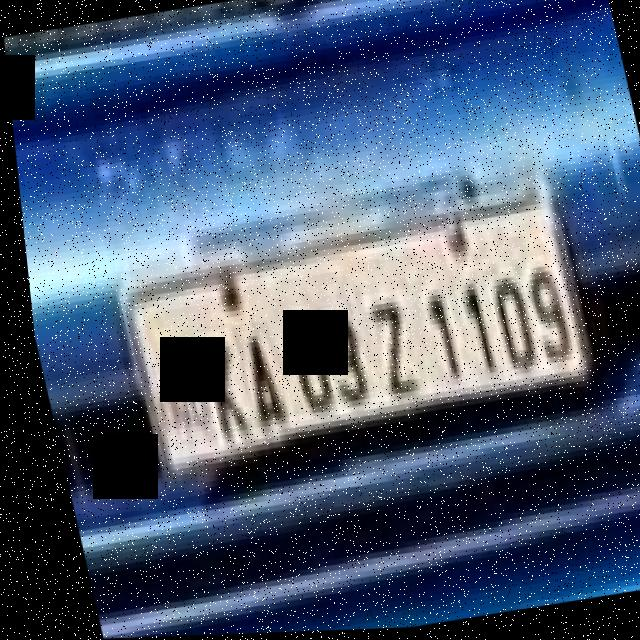0: (478, 267, 534, 381), (272, 315, 330, 420)
1: (448, 271, 496, 392), (412, 282, 458, 390)
3: (309, 304, 364, 412)
9: (511, 257, 572, 385)
A: (223, 321, 283, 439)
K: (185, 329, 244, 448)
Z: (354, 285, 413, 407)
